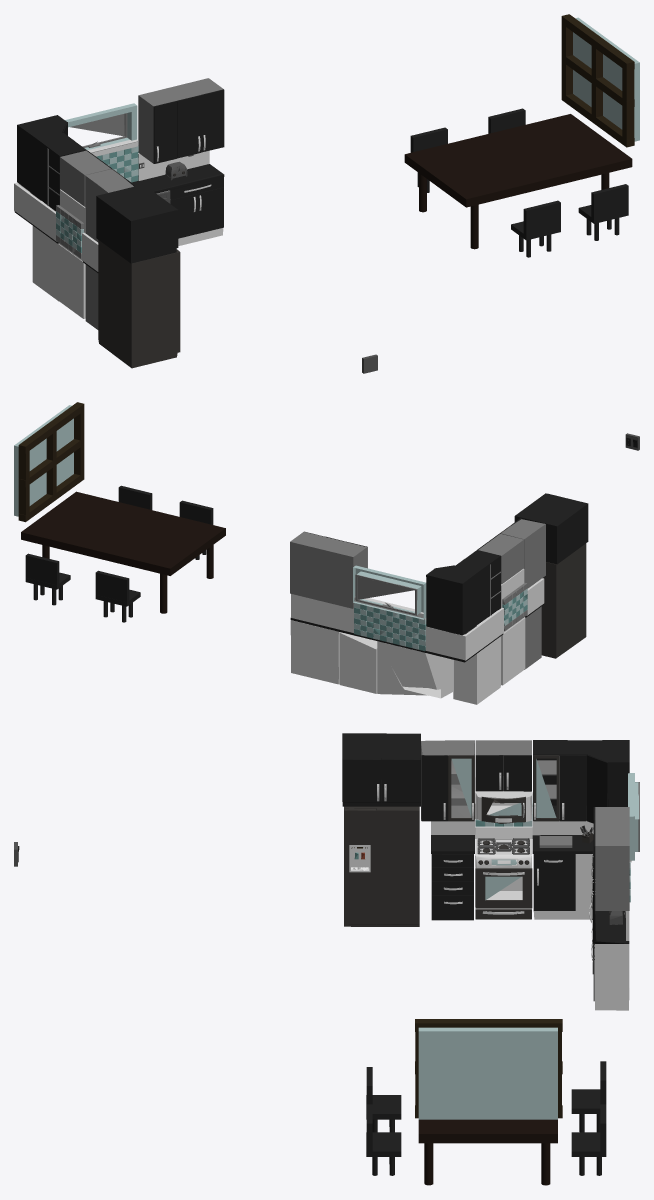
The model's file is kagu2.obj.
3 renders of one model, top to bottom at view 1: azimuth 30°, elevation 25°; view 2: azimuth 150°, elevation 25°; view 3: azimuth 270°, elevation 25°, orthographic. The views are drawn at different scales.
Parts seen in each view (by area): view 1: kagu:pCube42, kagu:group13pasted__polySurface78, kagu:group13pasted__woodpasted__polySurface46, kagu:group14pasted__woodpasted__polySurface10, kagu:group14pasted__geranetpasted__polySurface91, kagu:pCube35, kagu:group14pasted__woodpasted__polySurface2, kagu:group15pasted__polySurface59, kagu:group15pasted__woodpasted__polySurface19, kagu:group15pasted__woodpasted__polySurface14, kagu:group14pasted__woodpasted__polySurface3, kagu:group15pasted__woodpasted__polySurface54 (+19 smaller); view 2: kagu:pCube42, kagu:group14pasted__woodpasted__polySurface34, kagu:group14pasted__woodpasted__polySurface10, kagu:group14pasted__woodpasted__polySurface2, kagu:group13pasted__polySurface78, kagu:group14pasted__geranetpasted__polySurface91, kagu:group13pasted__woodpasted__polySurface46, kagu:group15pasted__woodpasted__polySurface19, kagu:pCube35, kagu:group14pasted__polySurface76, kagu:group15pasted__woodpasted__polySurface54, kagu:group15pasted__polySurface59 (+15 smaller); view 3: kagu:pCube35, kagu:group13pasted__polySurface81, kagu:group14pasted__woodpasted__polySurface2, kagu:pCube42, kagu:group13pasted__polySurface82, kagu:group14pasted__woodpasted__polySurface10, kagu:group14pasted__polySurface165pasted__geranet, kagu:group13pasted__woodpasted__polySurface46, kagu:group14pasted__woodpasted__polySurface34, kagu:group15pasted__woodpasted__polySurface20, kagu:group15pasted__polySurface12pasted__wood, kagu:group15pasted__woodpasted__polySurface203 (+24 smaller).
Part boxes in pixels (bbox=[...]): kagu:pCube42: bbox=[404, 114, 632, 207]; kagu:group13pasted__polySurface78: bbox=[98, 240, 177, 368]; kagu:group13pasted__woodpasted__polySurface46: bbox=[96, 185, 176, 263]; kagu:group14pasted__woodpasted__polySurface10: bbox=[17, 115, 86, 210]; kagu:group14pasted__geranetpasted__polySurface91: bbox=[14, 150, 209, 271]; kagu:pCube35: bbox=[573, 17, 639, 141]; kagu:group14pasted__woodpasted__polySurface2: bbox=[138, 78, 223, 163]; kagu:group15pasted__polySurface59: bbox=[58, 244, 85, 318]; kagu:group15pasted__woodpasted__polySurface19: bbox=[32, 226, 58, 301]; kagu:group15pasted__woodpasted__polySurface14: bbox=[60, 150, 110, 206]; kagu:group14pasted__woodpasted__polySurface3: bbox=[153, 101, 177, 163]; kagu:group15pasted__woodpasted__polySurface54: bbox=[85, 169, 133, 242]; kagu:pCube42: bbox=[21, 491, 225, 575]; kagu:group14pasted__woodpasted__polySurface34: bbox=[290, 620, 452, 698]; kagu:group14pasted__woodpasted__polySurface10: bbox=[426, 550, 500, 635]; kagu:group14pasted__woodpasted__polySurface2: bbox=[290, 532, 366, 608]; kagu:group13pasted__polySurface78: bbox=[541, 543, 586, 658]; kagu:group14pasted__geranetpasted__polySurface91: bbox=[291, 578, 544, 660]; kagu:group13pasted__woodpasted__polySurface46: bbox=[516, 493, 588, 564]; kagu:group15pasted__woodpasted__polySurface19: bbox=[453, 636, 500, 704]; kagu:pCube35: bbox=[14, 405, 73, 516]; kagu:group14pasted__polySurface76: bbox=[339, 632, 377, 693]; kagu:group15pasted__woodpasted__polySurface54: bbox=[501, 519, 545, 588]; kagu:group15pasted__polySurface59: bbox=[501, 618, 525, 685]; kagu:pCube35: bbox=[418, 1027, 557, 1119]; kagu:group13pasted__polySurface81: bbox=[376, 808, 419, 924]; kagu:group14pasted__woodpasted__polySurface2: bbox=[595, 807, 629, 910]; kagu:pCube42: bbox=[418, 1119, 557, 1143]; kagu:group13pasted__polySurface82: bbox=[344, 808, 376, 924]; kagu:group14pasted__woodpasted__polySurface10: bbox=[533, 740, 629, 820]; kagu:group14pasted__polySurface165pasted__geranet: bbox=[431, 835, 629, 943]; kagu:group13pasted__woodpasted__polySurface46: bbox=[342, 733, 420, 806]; kagu:group14pasted__woodpasted__polySurface34: bbox=[595, 944, 629, 1010]; kagu:group15pasted__woodpasted__polySurface20: bbox=[533, 865, 575, 910]; kagu:group15pasted__polySurface12pasted__wood: bbox=[421, 755, 447, 821]; kagu:group15pasted__woodpasted__polySurface203: bbox=[560, 755, 586, 821].
Size of the model in its own units: 7.29 by 1.97 by 6.44.
